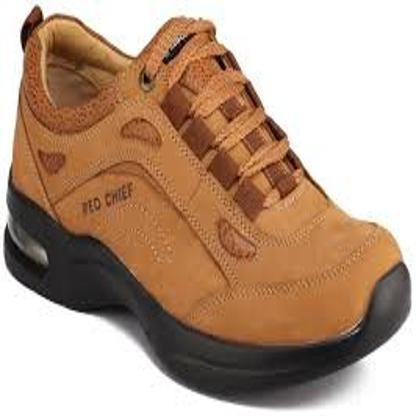not trash: (3, 0, 411, 394)
